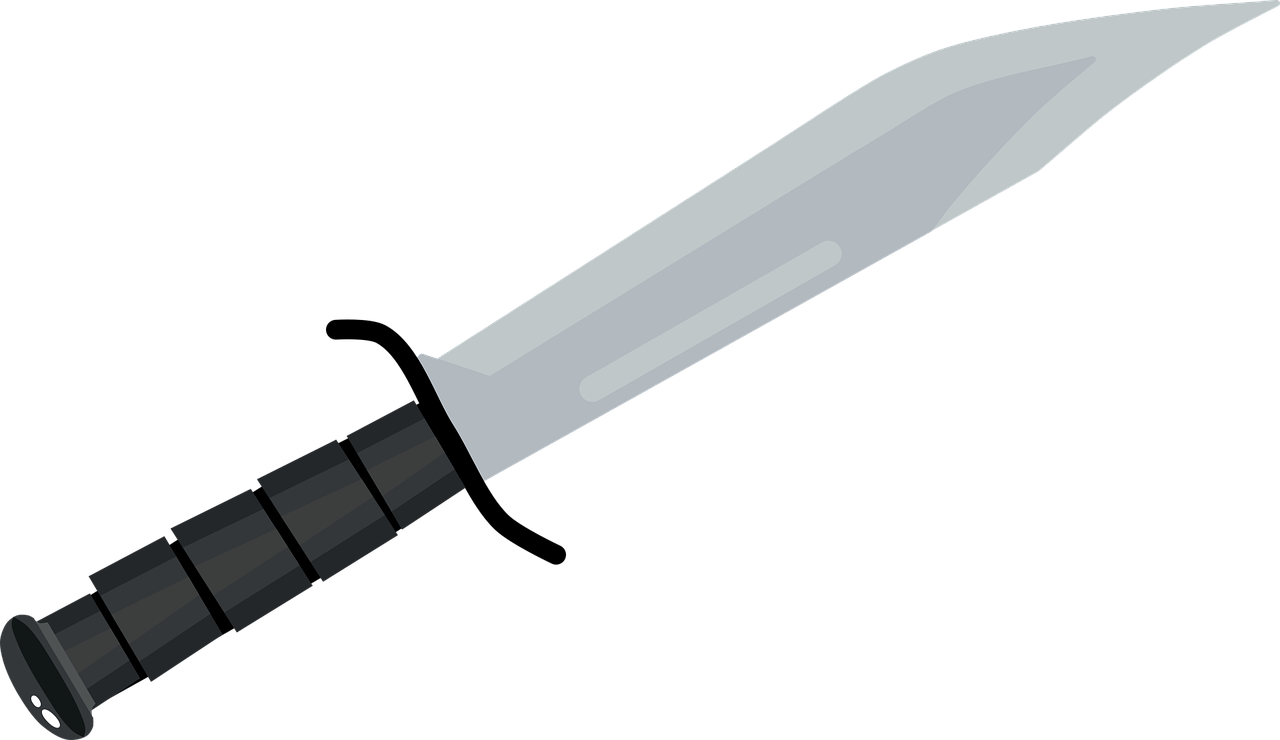knife: (6, 0, 1280, 734)
